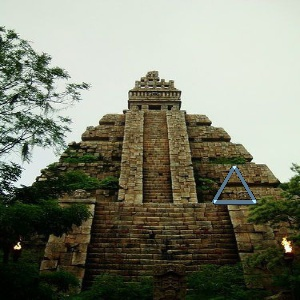triangle: (210, 164, 257, 206)
